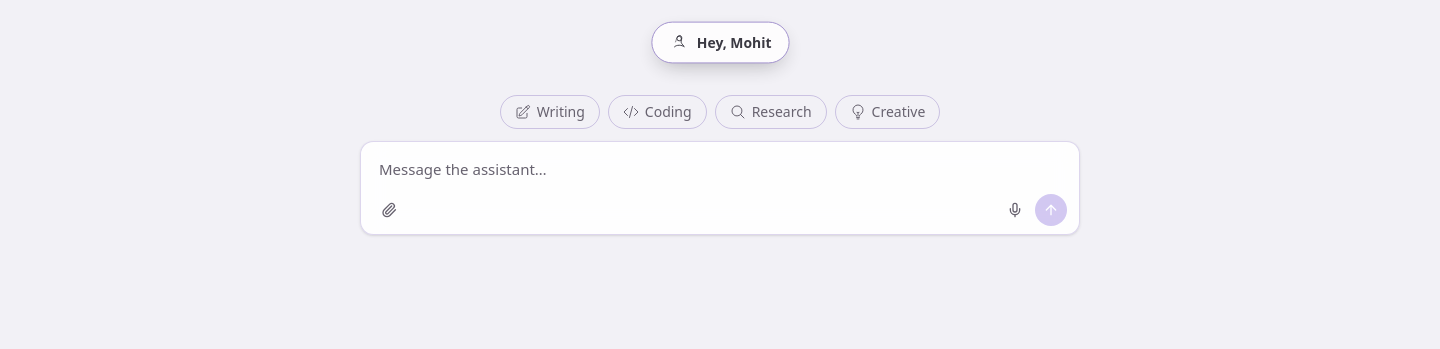
Scenario: ChatPanel › sends a suggestion card's prompt directly, without needing the composer at all
The width and height of the screenshot is (1440, 349).
Check: the text "Hey, Mohit" is shown, box [697,32,771,53]
Click the button "Coding" at (657, 112), box [608,94,707,128]
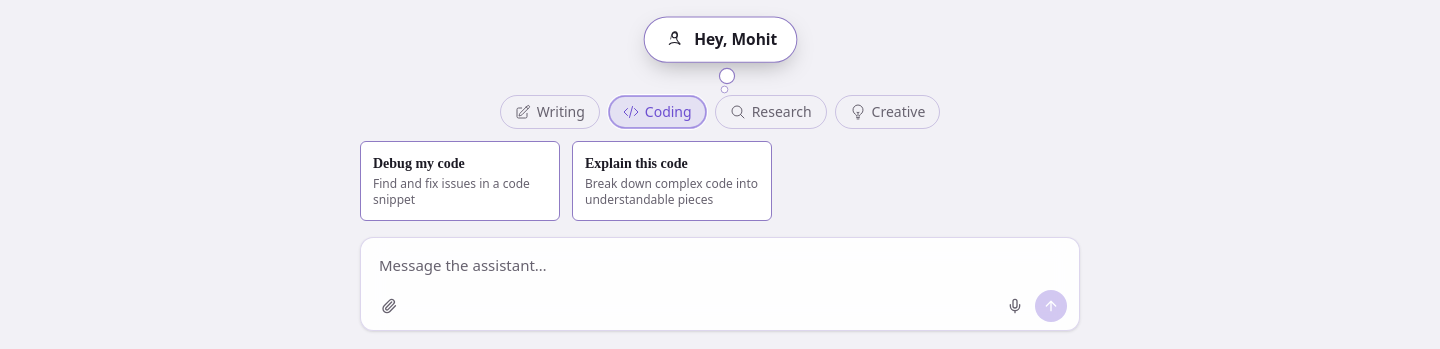
Click the heading "Debug my code" at (419, 163), box [373,156,465,170]
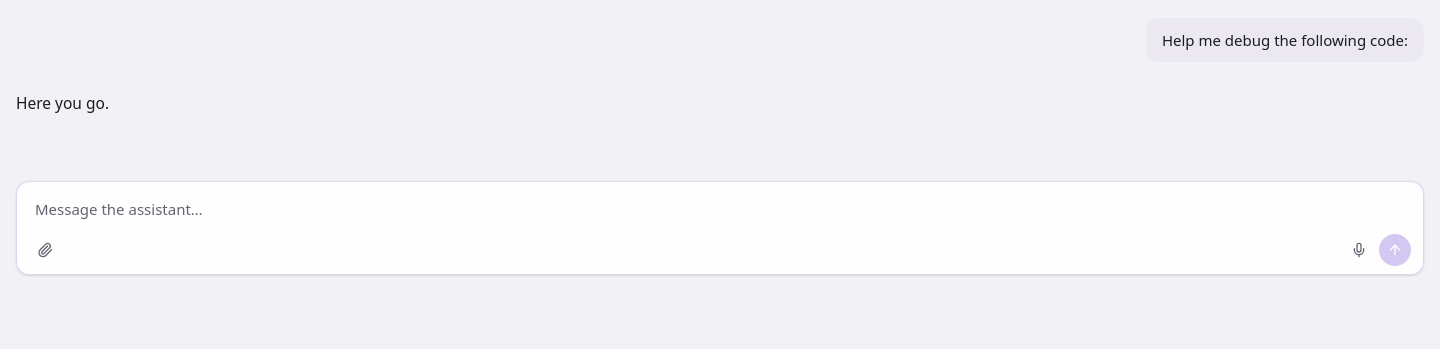
Check: the text "Here you go." is shown, box [16,92,109,114]
